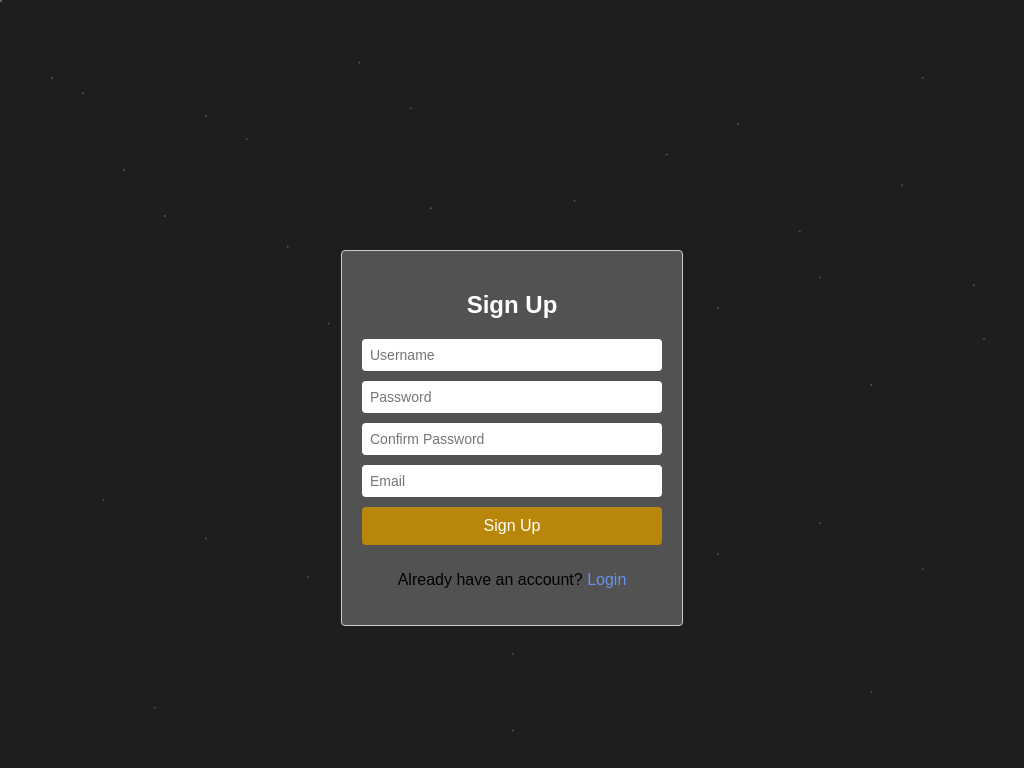
Scenario: Signup Form Validation › shows an error for an invalid email address
Type "user2" into the field with placeholder "Username". click: [512, 355]
box: [362,339,662,371]
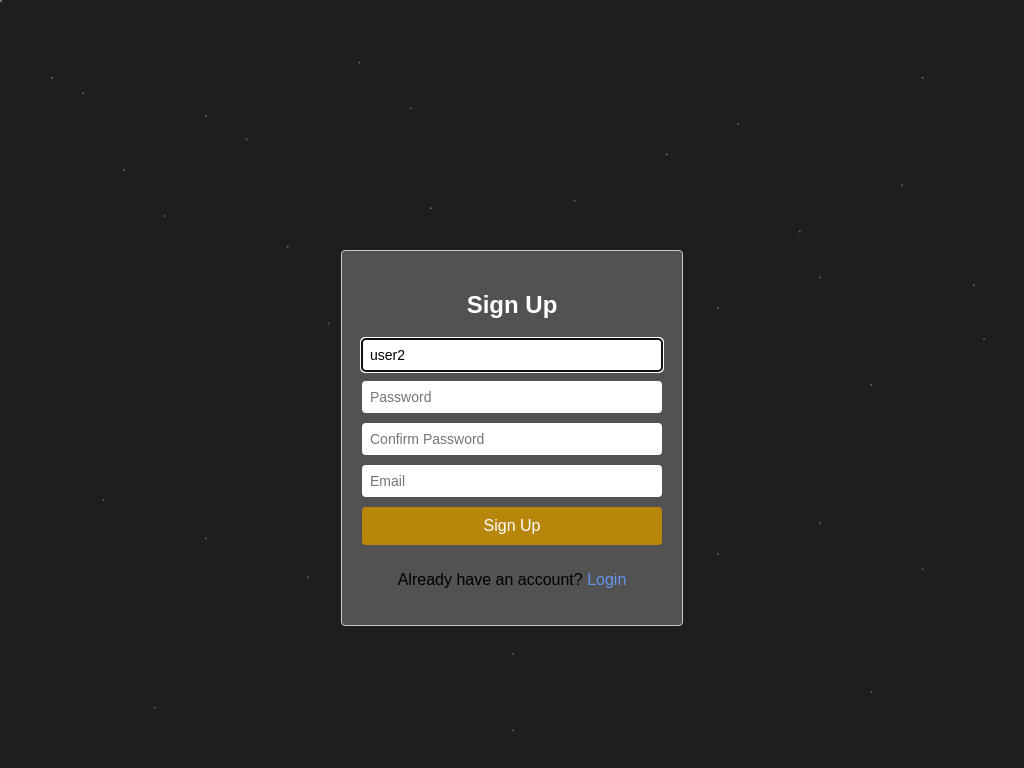
Type "not-an-email" into the field with placeholder "Email". click: [512, 481]
box: [362,465,662,497]
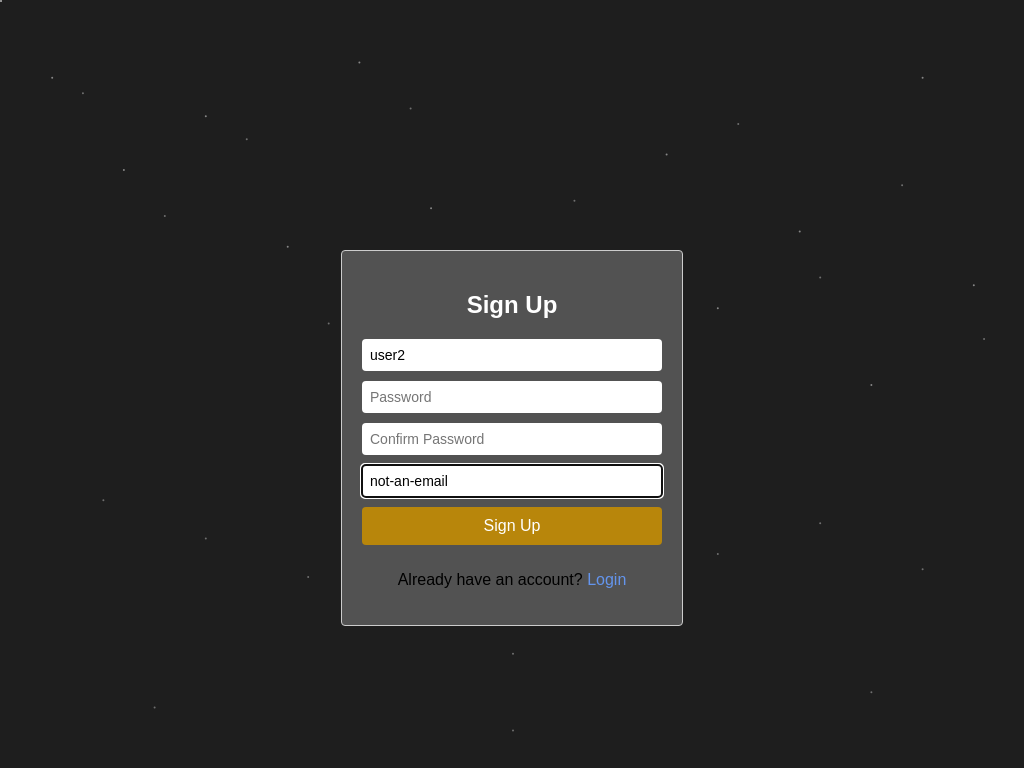
Type "password123" into the password field with placeholder "Password". click: [512, 397]
box: [362,381,662,413]
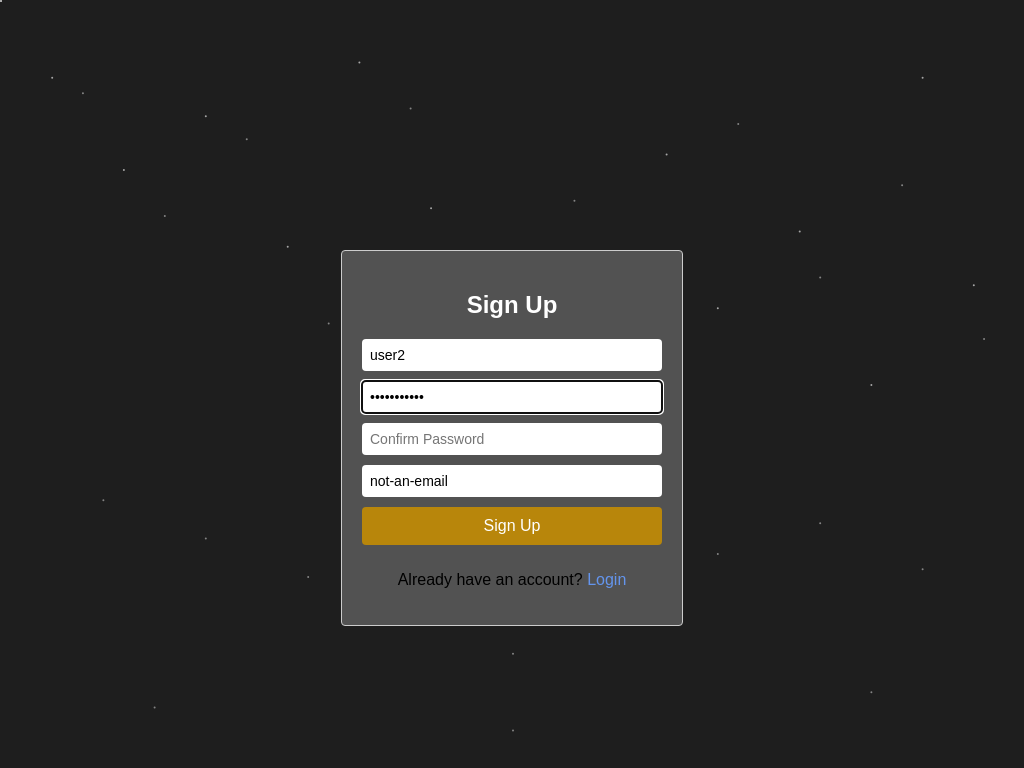
Type "password123" into the password field with placeholder "Confirm Password". click: [512, 439]
box: [362,423,662,455]
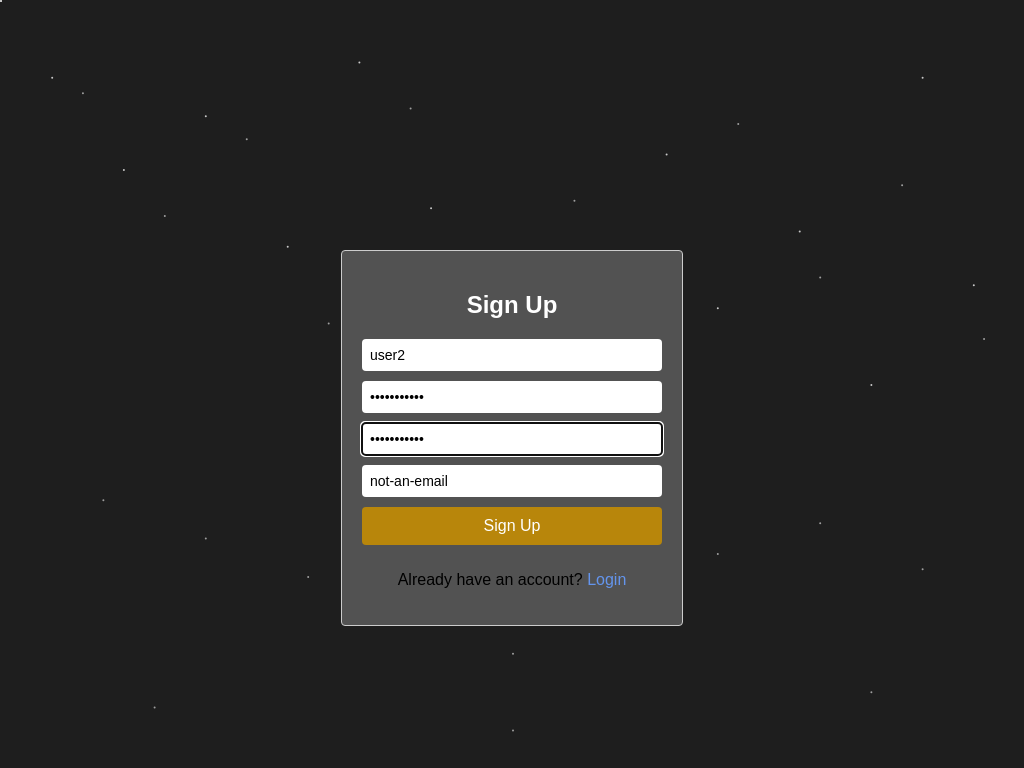
Click the button "Sign Up". click: [512, 526]
box: [362,507,662,545]
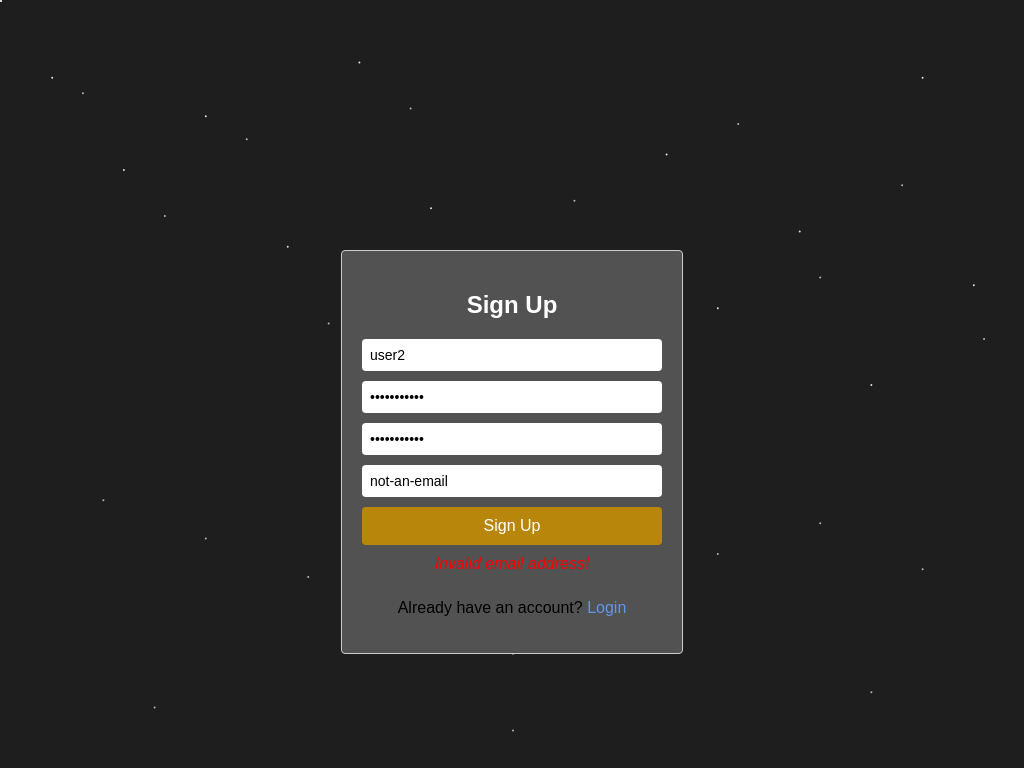
Check: the text "Invalid email address!" is shown, box [435,555,589,572]
